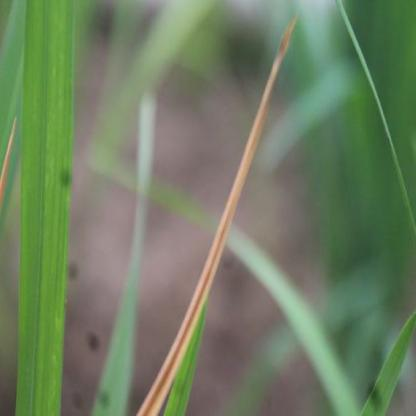Tungro: (137, 28, 291, 416)
